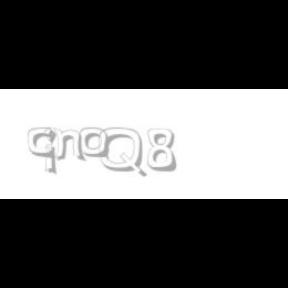8: (148, 128, 176, 172)
Q: (99, 128, 145, 178)
c: (28, 128, 57, 160)
i: (44, 128, 60, 176)
n: (53, 128, 87, 162)
o: (80, 128, 108, 158)
